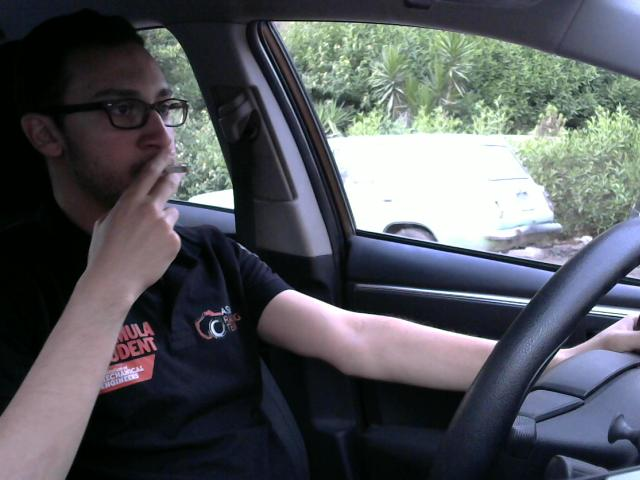Smoking: (147, 158, 198, 184)
